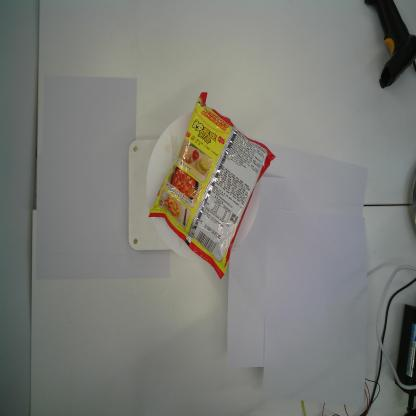Instant Noodles: (148, 92, 276, 280)
